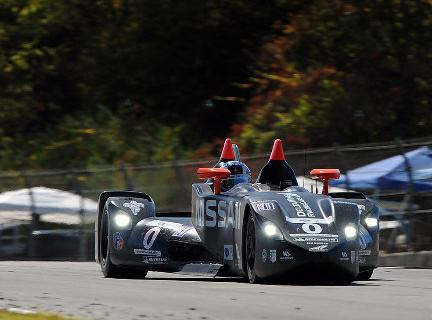日产-DeltaWing: (84, 132, 388, 291)
